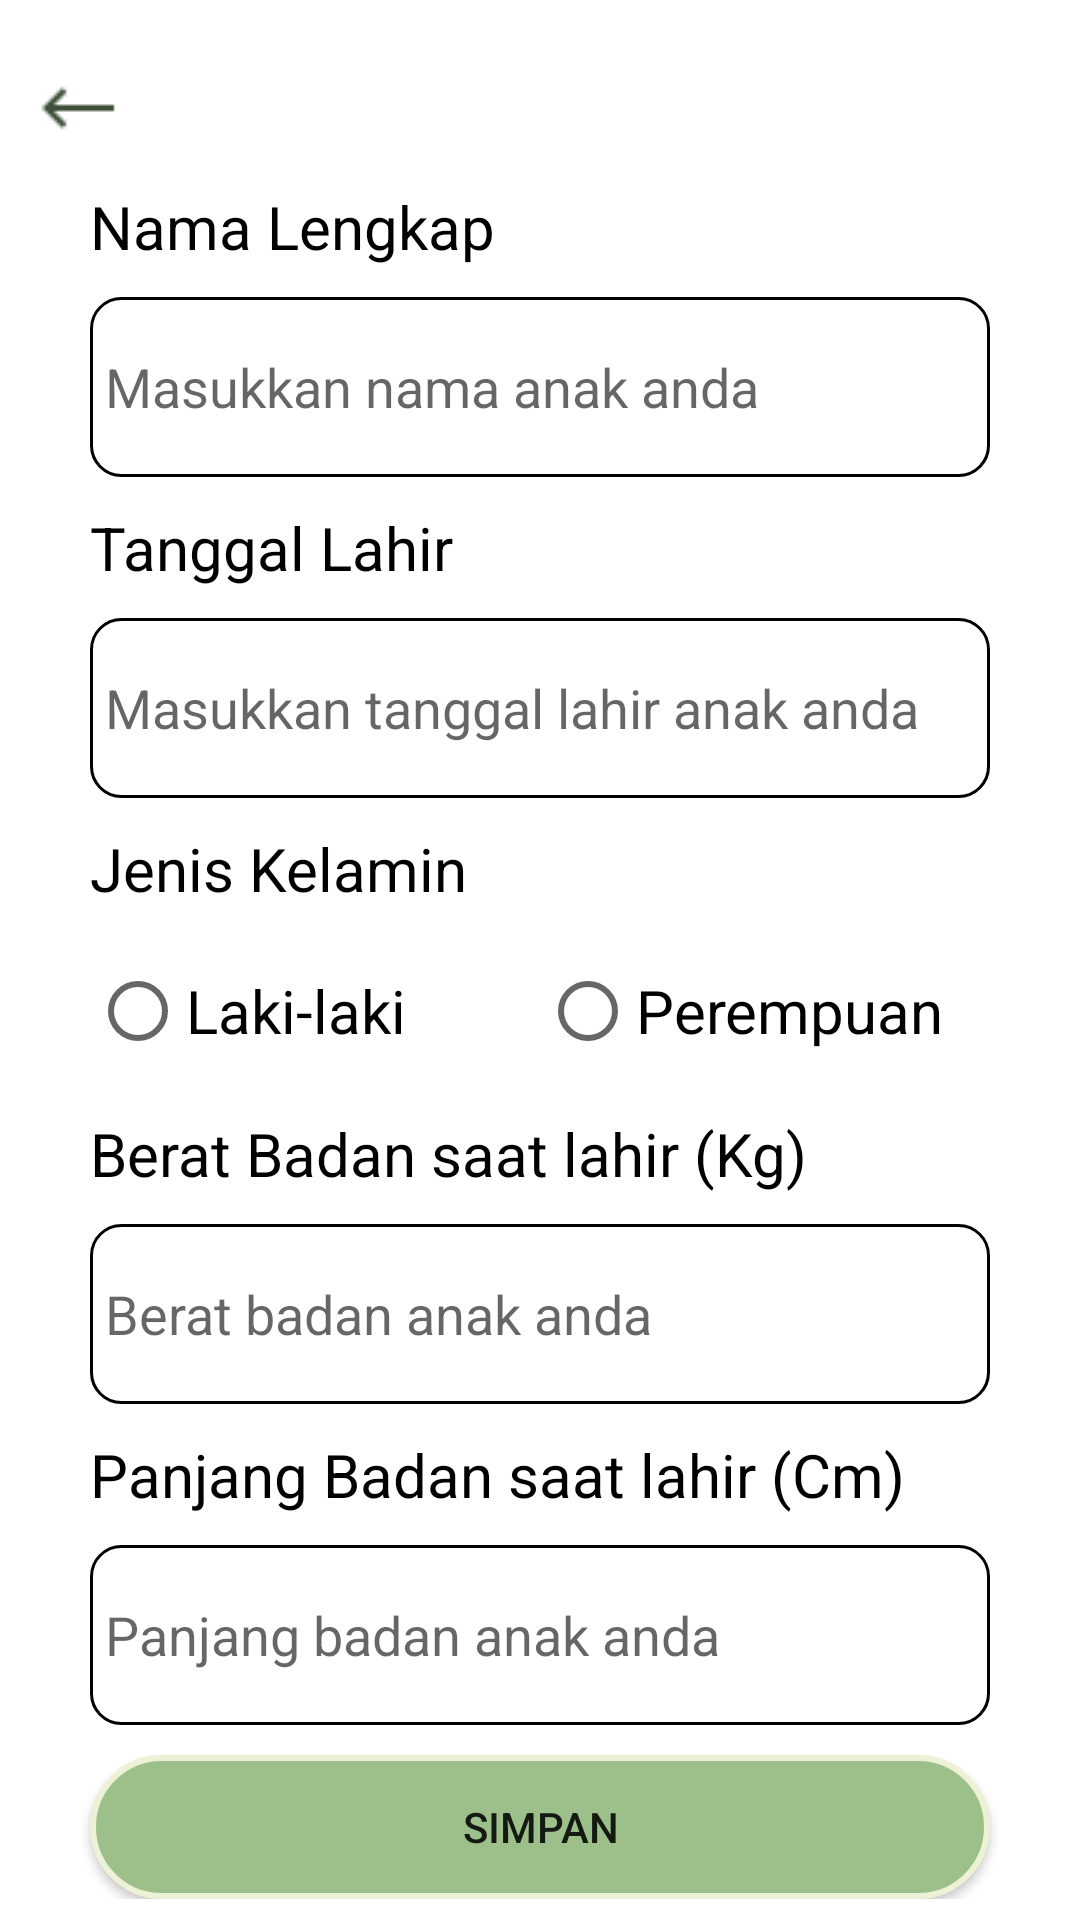

Icons on this 1080×1920 Android screen, each with the point to tap as (x,y):
left arrow: (78,108)
